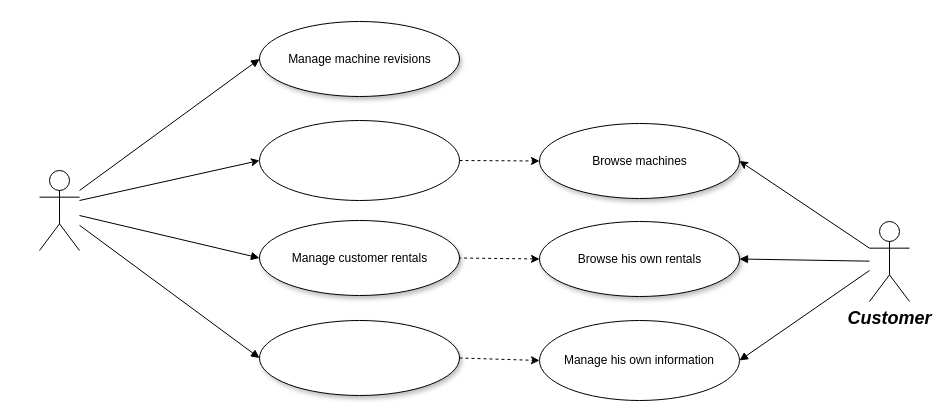
Some shapes in this 949 by 420 pixel diagram are drawn without their labels. The shapes that lost their labels are listed below. From the top down, each one's centre as x and y in pixels, then its label:
(359,160): Manage machines
(59,210): Employee
(360,359): Manage customer information
